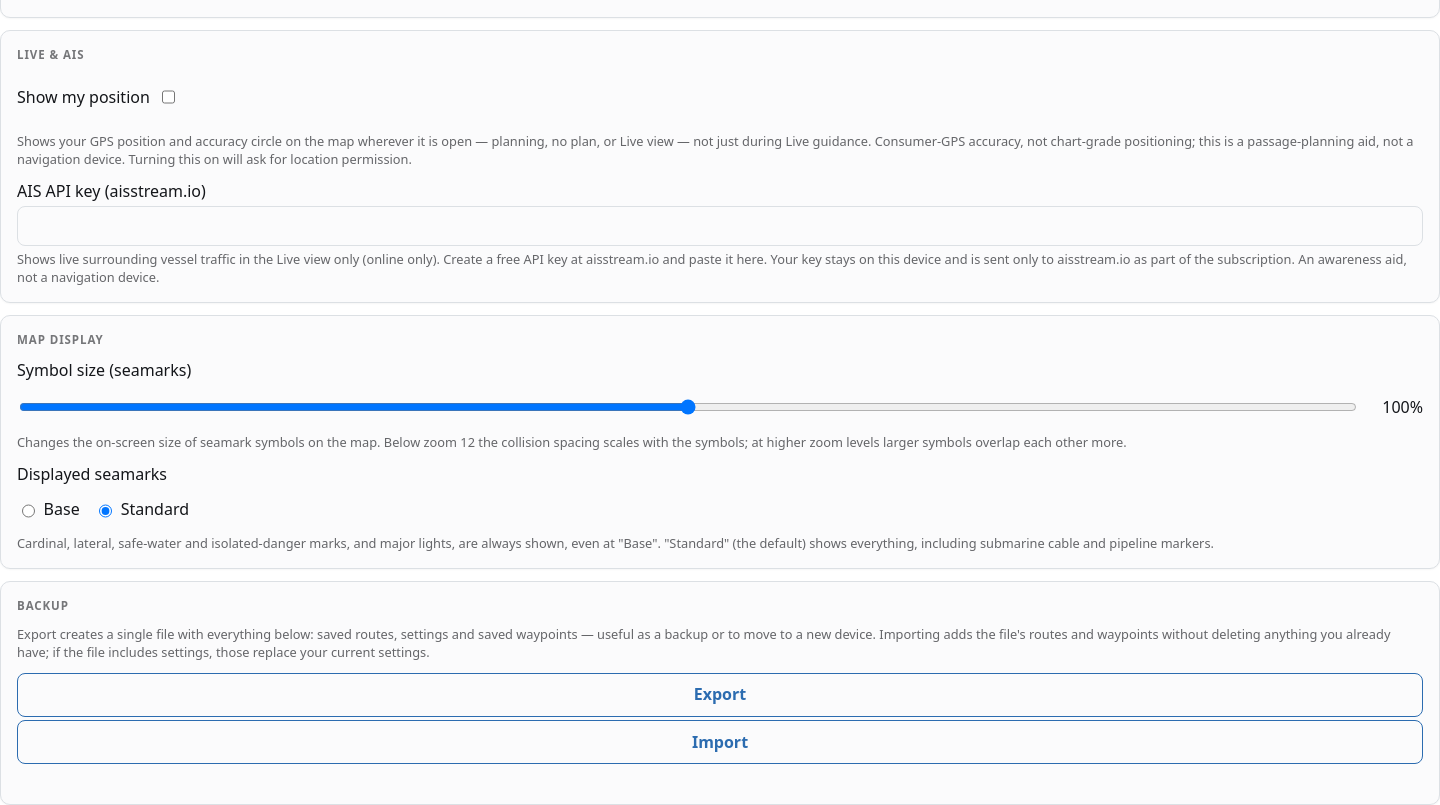
it: SettingsPanel (#299 Boat tab) › Map display group (#353 PR2) › selecting Base persists tier 0 and checks only Base
This screenshot has width=1440, height=805.
(page scrolled)
Click the radio button labelled "Base" at point(28, 511), box 22,491 -> 35,531
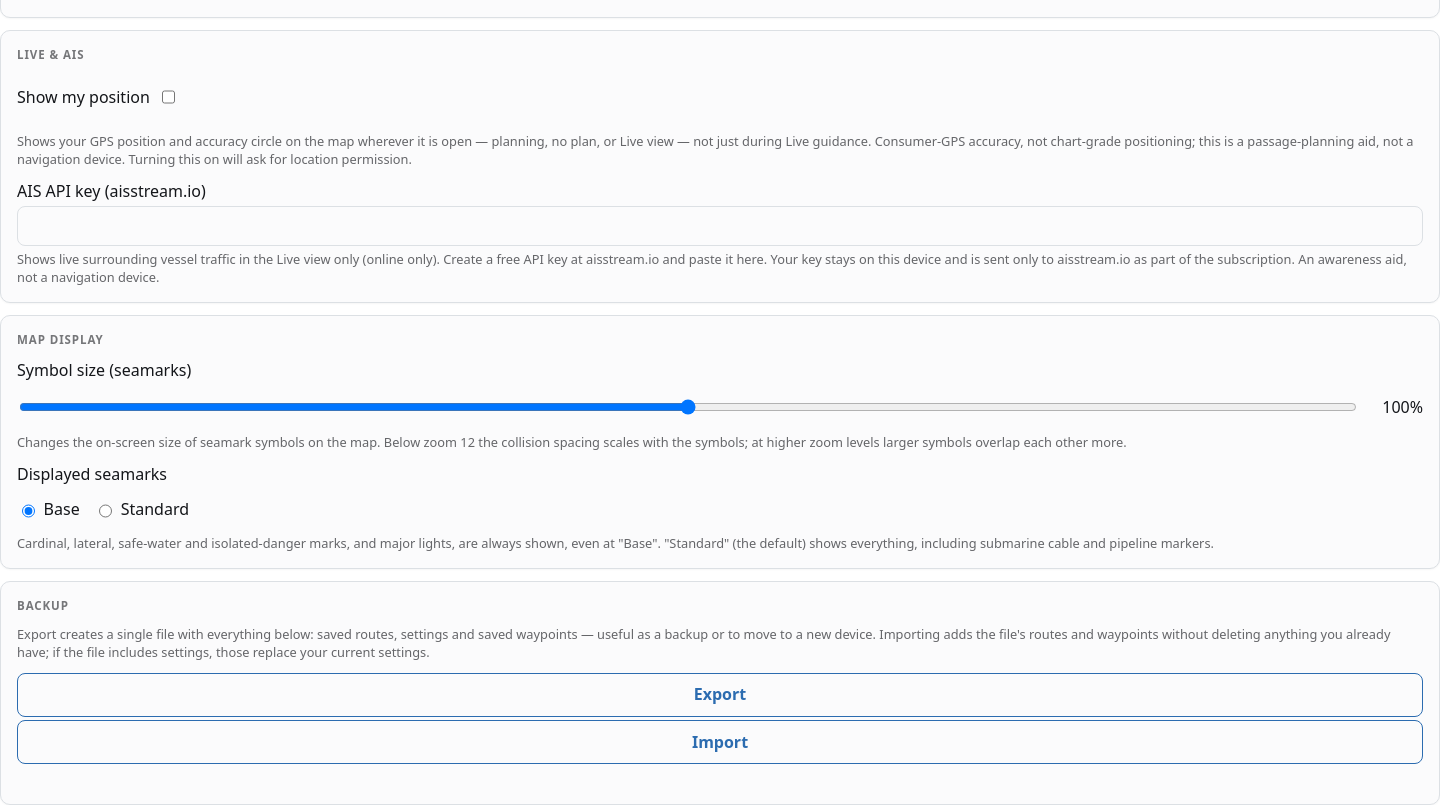
Expected: the radio button labelled "Base" is checked, 22,491 -> 35,531
Expected: the radio button labelled "Standard" is not checked, 99,491 -> 112,531
